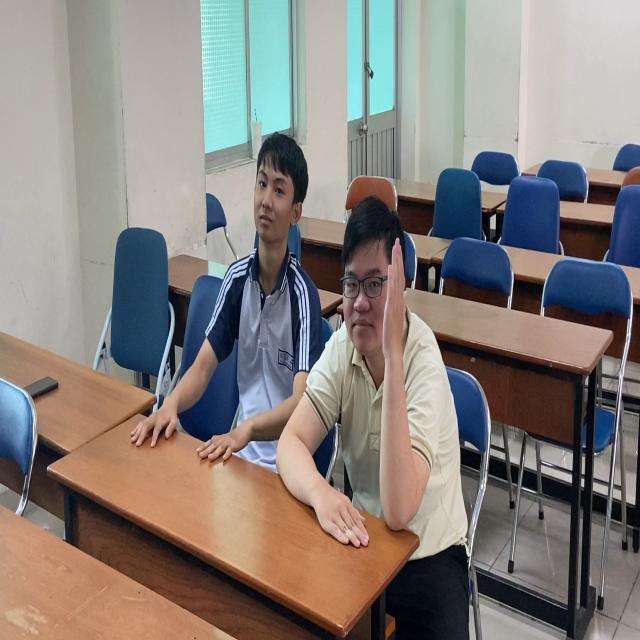raise_hand: (285, 196, 473, 556)
